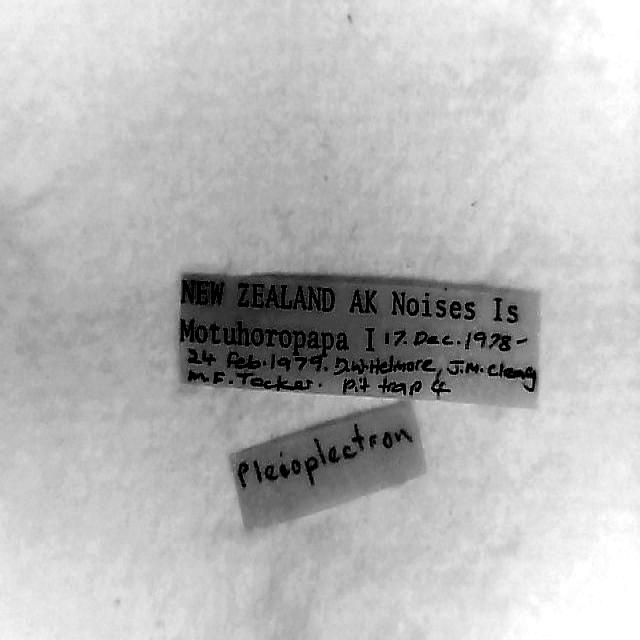hand_label: (232, 402, 425, 526)
mixed_label: (180, 273, 539, 406)
